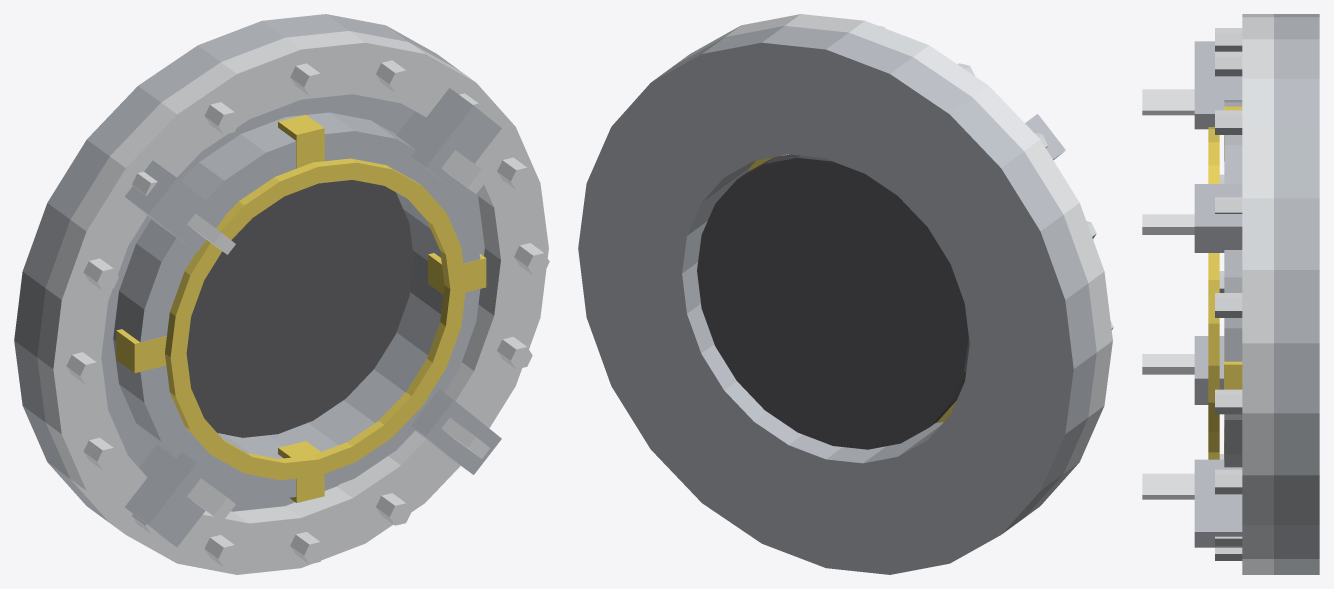
File: orbital-station-and-docking-bays-berthing-common-mecha-84745cd0__24550.glb
3 renders of one model, left to right at view 1: azimuth 30°, elevation 25°; view 2: azimuth 150°, elevation 25°; view 3: azimuth 270°, elevation 25°, orthographic.
Visible parts, largest first — view 1: berthing-common-mechanism; view 2: berthing-common-mechanism; view 3: berthing-common-mechanism.
Boxes of the visible parts, x1,y1,x2,y2 form: berthing-common-mechanism: (14,14,549,574); berthing-common-mechanism: (578,14,1113,574); berthing-common-mechanism: (1142,14,1319,574).
Bounding box in the file's own units: 2.48 × 2.48 × 0.7801.
